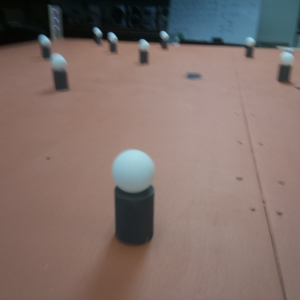obstacle: (111, 148, 155, 247), (51, 55, 71, 90), (276, 50, 292, 86), (39, 34, 53, 58), (139, 38, 151, 64), (109, 31, 119, 55), (245, 38, 256, 58), (94, 28, 103, 45), (161, 30, 169, 49)
